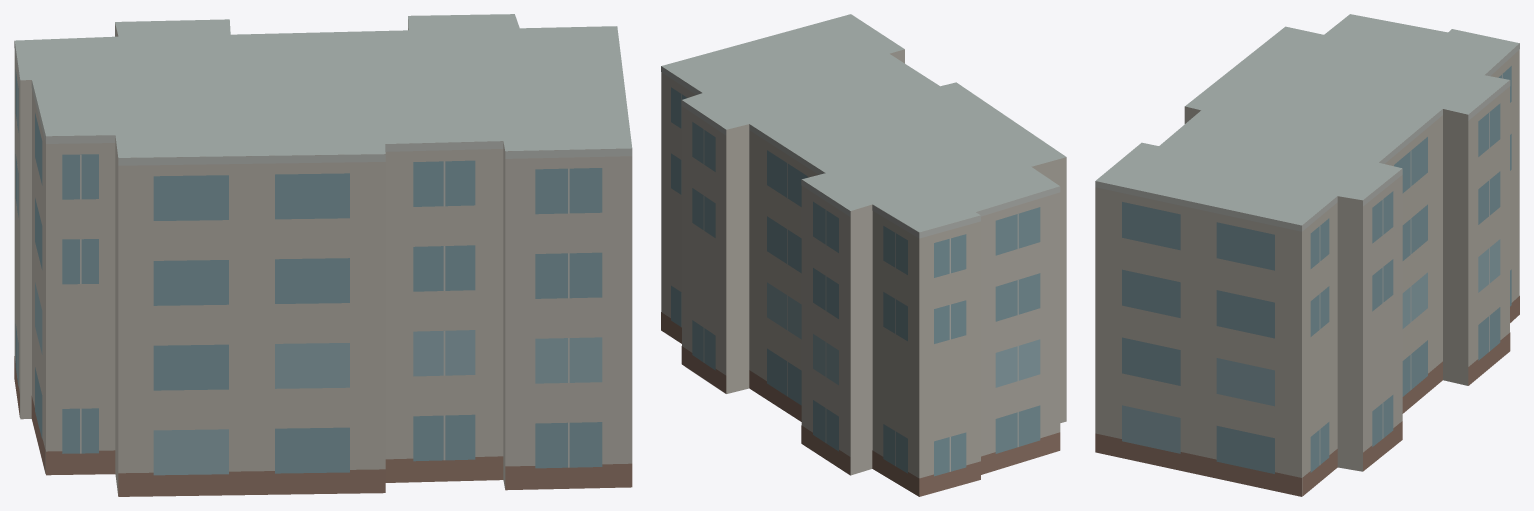
File: survey-upis-33022965.glb
The picture shows the model from 3 angles, left to right: view 1: azimuth 30°, elevation 25°; view 2: azimuth 150°, elevation 25°; view 3: azimuth 270°, elevation 25°; orthographic projection. The views are drawn at different scales.
Visible parts, largest first — view 1: survey-upis-33022965.tmp; view 2: survey-upis-33022965.tmp; view 3: survey-upis-33022965.tmp.
Part boxes in pixels (bbox=[...]): survey-upis-33022965.tmp: bbox=[14, 14, 632, 496]; survey-upis-33022965.tmp: bbox=[661, 14, 1066, 496]; survey-upis-33022965.tmp: bbox=[1095, 14, 1519, 496].
Size of the model in its own units: 17.73 by 10.6 by 15.03.
